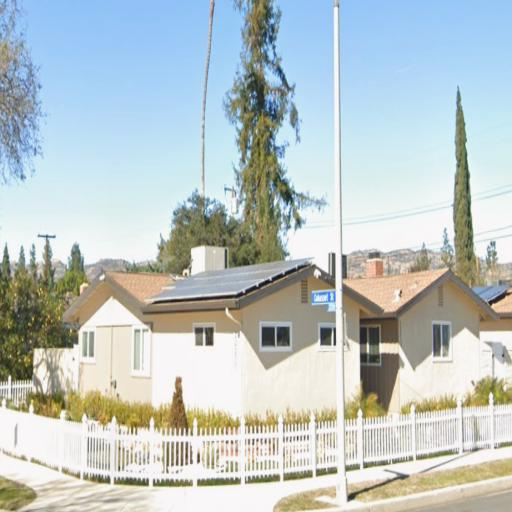poste: (329, 4, 354, 508)
